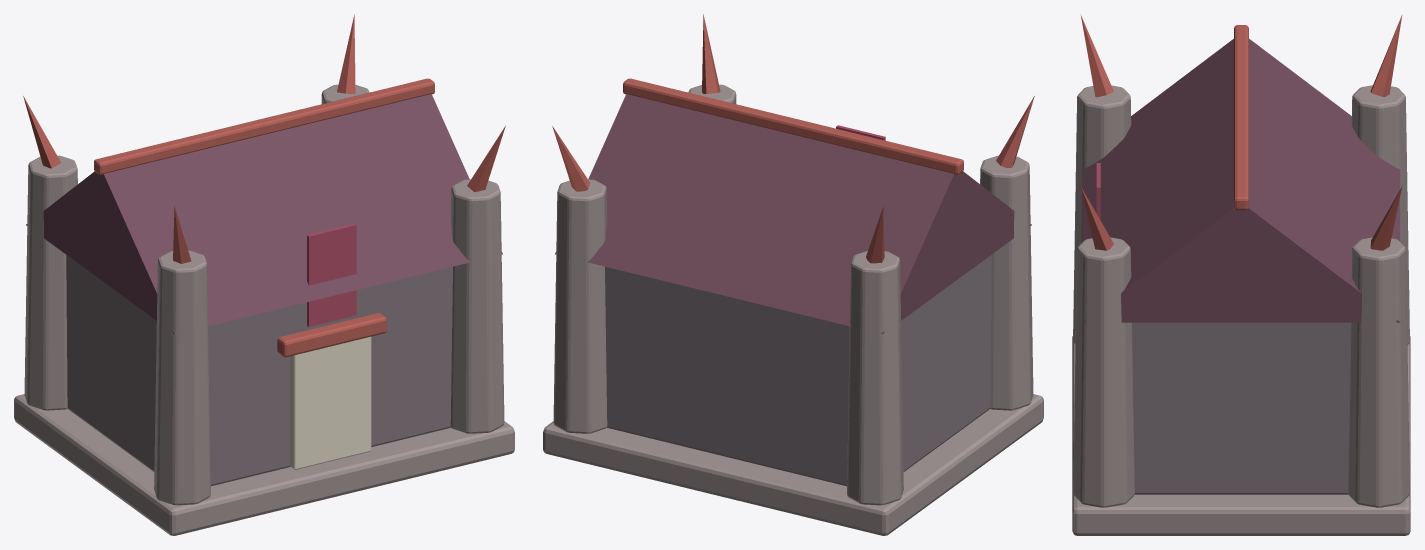
Rendered from rax_melee_dusk.glb.
3 views of the same model, side by side, from view 1: azimuth 30°, elevation 25°; view 2: azimuth 150°, elevation 25°; view 3: azimuth 270°, elevation 25° (orthographic). The views are drawn at different scales.
Parts seen in each view (by area): view 1: roof, hall, found, corner-1-1, corner1-1, door, corner-11, ridge, banner, lintel, cs11, cs-11 (+1 smaller); view 2: roof, hall, found, corner-11, corner11, corner-1-1, ridge, cs1-1, cs-1-1, cs11, cs-11; view 3: roof, hall, corner1-1, corner11, found, corner-1-1, corner-11, ridge, cs-1-1, cs-11, cs11, cs1-1.
Boxes of the visible parts, x1,y1,x2,y2 form: roof: (26,94,502,334); hall: (66,255,452,486); found: (14,394,514,535); corner-1-1: (154,250,210,505); corner1-1: (450,179,504,433); door: (290,336,371,469); corner-11: (24,155,77,410); ridge: (94,78,434,174); banner: (307,223,356,326); lintel: (277,313,386,357); cs11: (337,14,355,94); cs-11: (23,96,60,168); roof: (555,94,1031,334); hall: (605,255,991,486); found: (543,394,1043,535); corner-11: (847,250,903,505); corner11: (553,179,607,433); corner-1-1: (980,155,1033,410); ridge: (623,78,963,174); cs1-1: (702,14,720,93); cs-1-1: (996,96,1034,167); cs11: (552,126,590,191); cs-11: (866,206,884,263); roof: (1082,39,1400,322); hall: (1132,322,1350,494); corner1-1: (1073,237,1134,507); corner11: (1348,237,1409,507); found: (1072,336,1410,535); corner-1-1: (1073,85,1131,344); corner-11: (1351,85,1409,344); ridge: (1234,25,1248,210); cs-1-1: (1081,15,1113,97); cs-11: (1370,15,1402,96); cs11: (1370,186,1402,250); cs1-1: (1080,186,1113,250).
Size of the model in its own units: 4 by 3.64 by 3.2.
